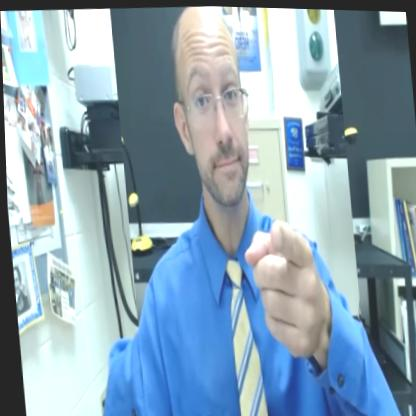HowAreYou: (109, 3, 366, 416)
